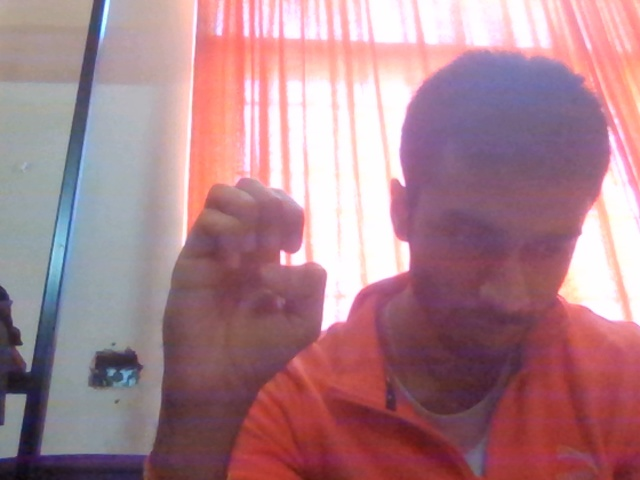E: (131, 170, 358, 480)
